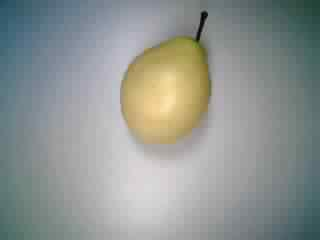pear: (110, 6, 230, 153)
